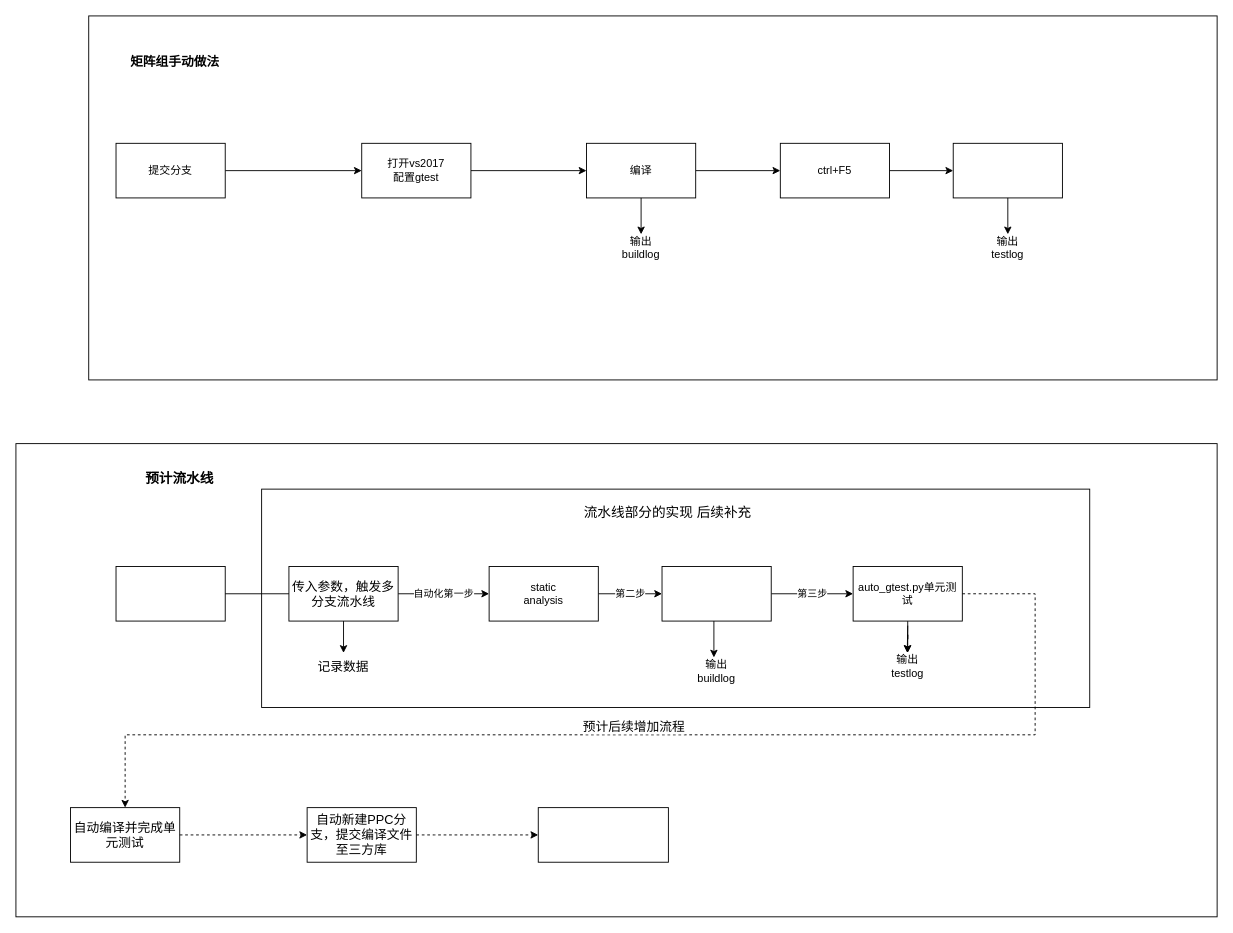
Some shapes in this 1233 by 933 pixel diagram are drawn without their labels. The centre of each missing label's shape, as x and y in pixels:
vs_build.py编译: [716,593]
分支推送目标仓库: [170,593]
矩阵库代码更改也通过Review Board审查: [602,834]
跑测试: [1007,170]
